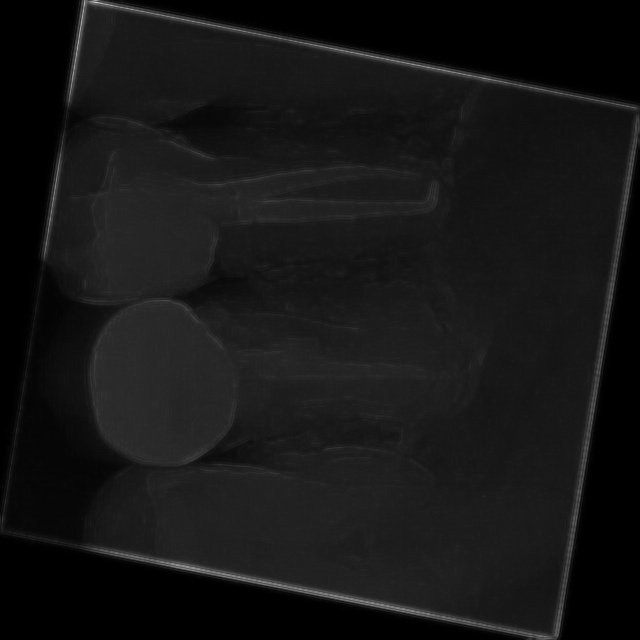Class 0- No endodontic treatment: (37, 36, 486, 380)
Class 1- complete endodontic treatment: (64, 220, 484, 549)
